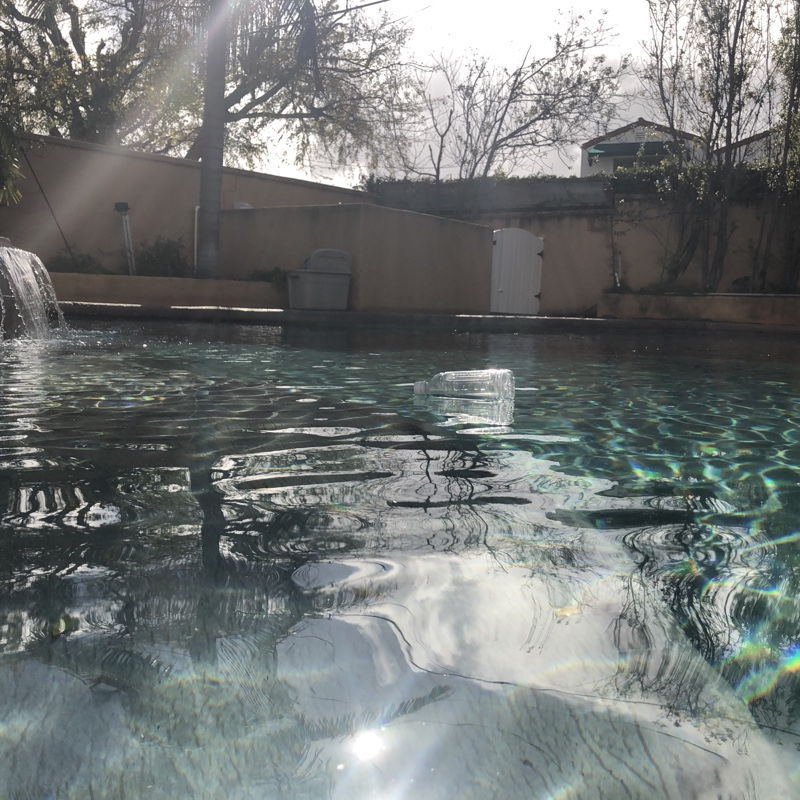Plastic Bottle: (408, 363, 517, 409)
